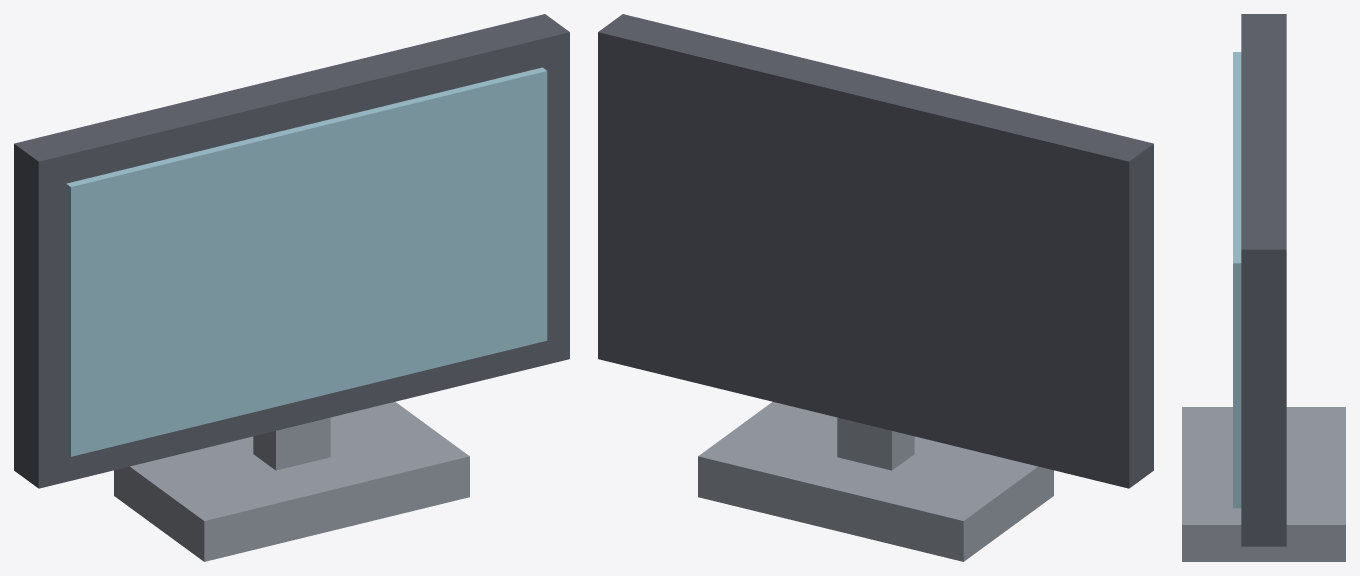
3 renders of one model, left to right at view 1: azimuth 30°, elevation 25°; view 2: azimuth 150°, elevation 25°; view 3: azimuth 270°, elevation 25°, orthographic. The views are drawn at different scales.
Visible parts, largest first — view 1: Panel, Screen, Base, Stem; view 2: Screen, Base, Stem; view 3: Screen, Base, Panel.
Part boxes in pixels (x1,y1,x2,y2): Panel: [66, 67, 547, 456]; Screen: [14, 14, 569, 488]; Base: [114, 402, 469, 561]; Stem: [253, 417, 330, 470]; Screen: [598, 14, 1153, 488]; Base: [698, 402, 1053, 561]; Stem: [837, 417, 914, 470]; Screen: [1241, 14, 1286, 546]; Base: [1182, 407, 1345, 561]; Panel: [1233, 52, 1241, 508].
Bounding box in the file's own units: 0.68 × 0.5 × 0.2.
